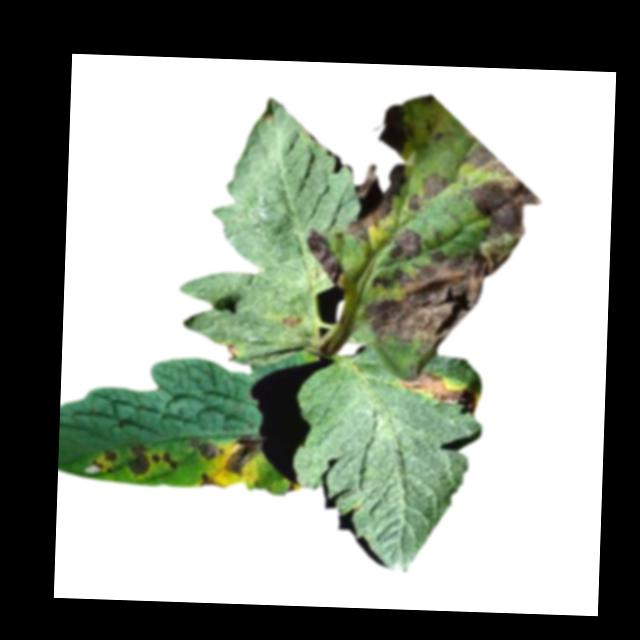Early_blight: (365, 141, 544, 361), (341, 156, 408, 241), (393, 371, 480, 419), (303, 228, 341, 288), (408, 170, 448, 216), (376, 103, 409, 157), (223, 432, 261, 475), (387, 224, 423, 259), (86, 446, 117, 479), (125, 444, 149, 478), (187, 438, 217, 461), (150, 453, 178, 470), (197, 473, 221, 492), (278, 312, 305, 328), (223, 340, 237, 364)
